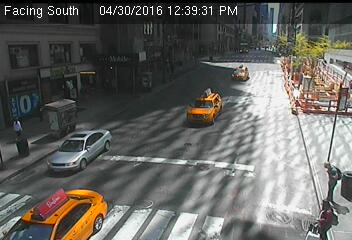neg: (188, 91, 220, 133), (266, 179, 295, 217), (44, 38, 73, 76), (133, 41, 161, 80), (45, 90, 73, 127), (273, 117, 300, 153), (115, 165, 142, 201), (160, 151, 185, 185), (97, 83, 121, 115), (220, 148, 243, 178), (229, 66, 251, 95), (45, 186, 67, 215), (288, 54, 309, 81), (80, 137, 100, 164), (205, 41, 221, 63)
pos: (312, 197, 342, 237), (315, 159, 345, 198), (10, 117, 27, 139)
